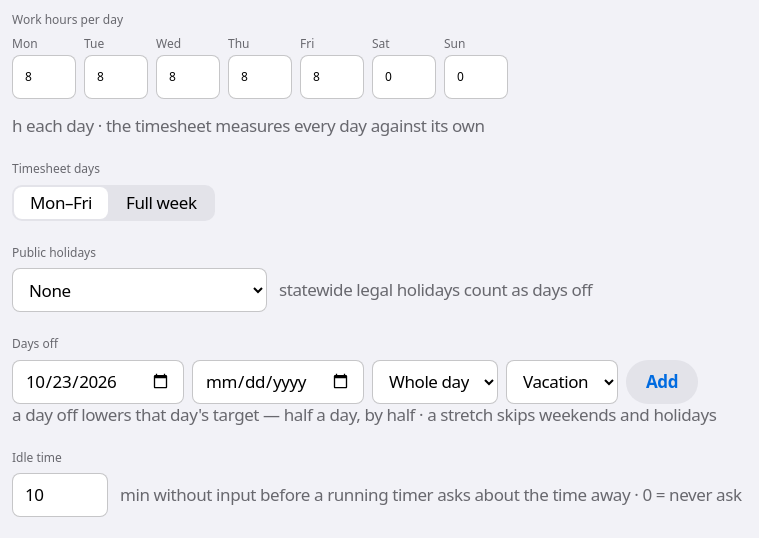
Test case: idle time › snaps back to the stored value when the field is left
Replace the text in the number field named "Idle minutes" with "9999": (60, 495) [12,473,108,517]
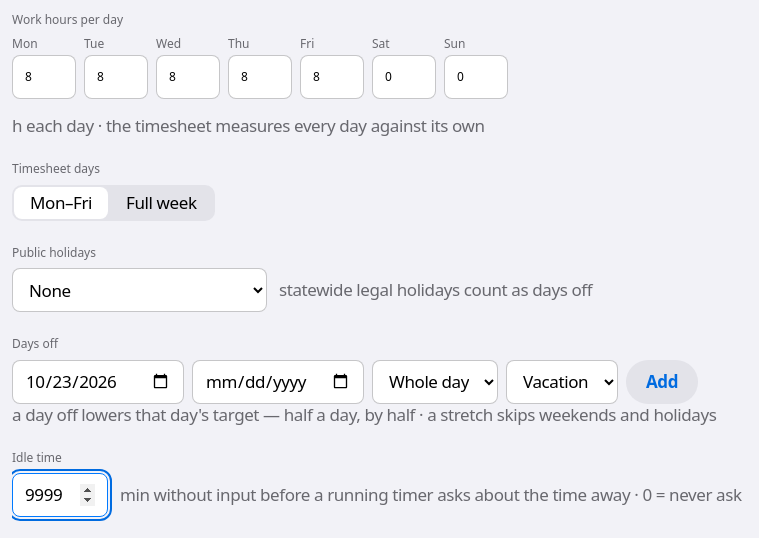
Press Tab
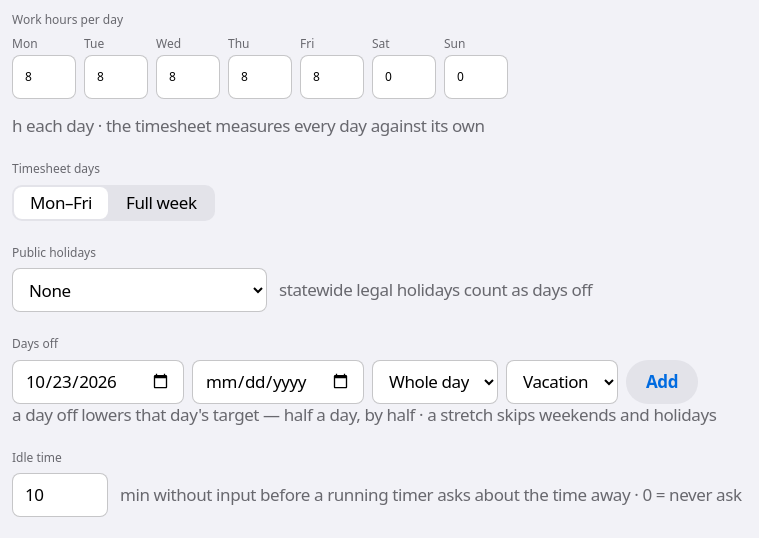
expect the number field named "Idle minutes" holds "10": met, box [12,473,108,517]
